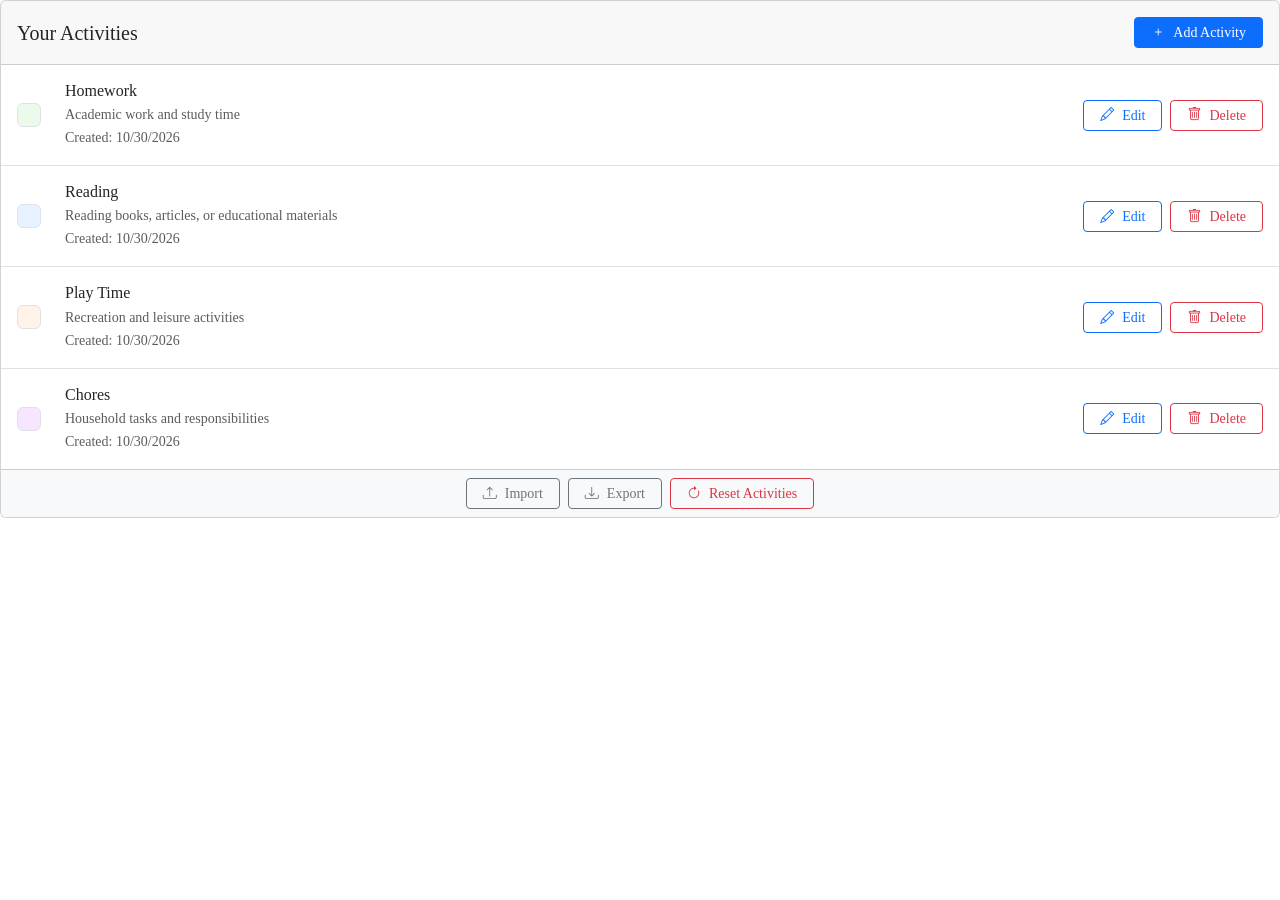
it: ActivityCrud › opens the add activity form
Click the button "Add Activity" at (1199,32), box top-left (1134, 17), bottom-right (1263, 48)
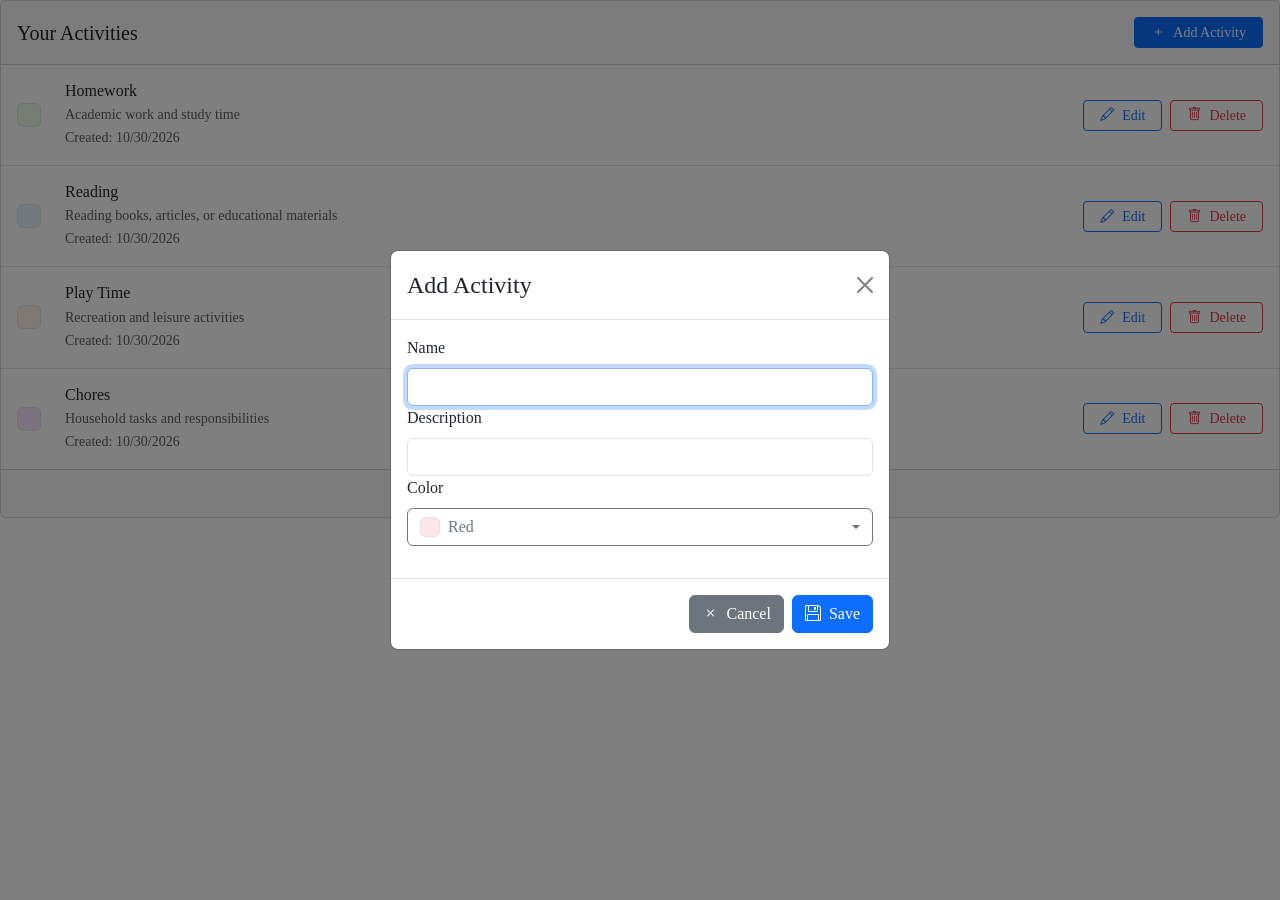
Result: the field labelled "Name" is shown at top-left (407, 368), bottom-right (873, 406)
Result: the text "Red" is shown at top-left (420, 515), bottom-right (474, 539)
